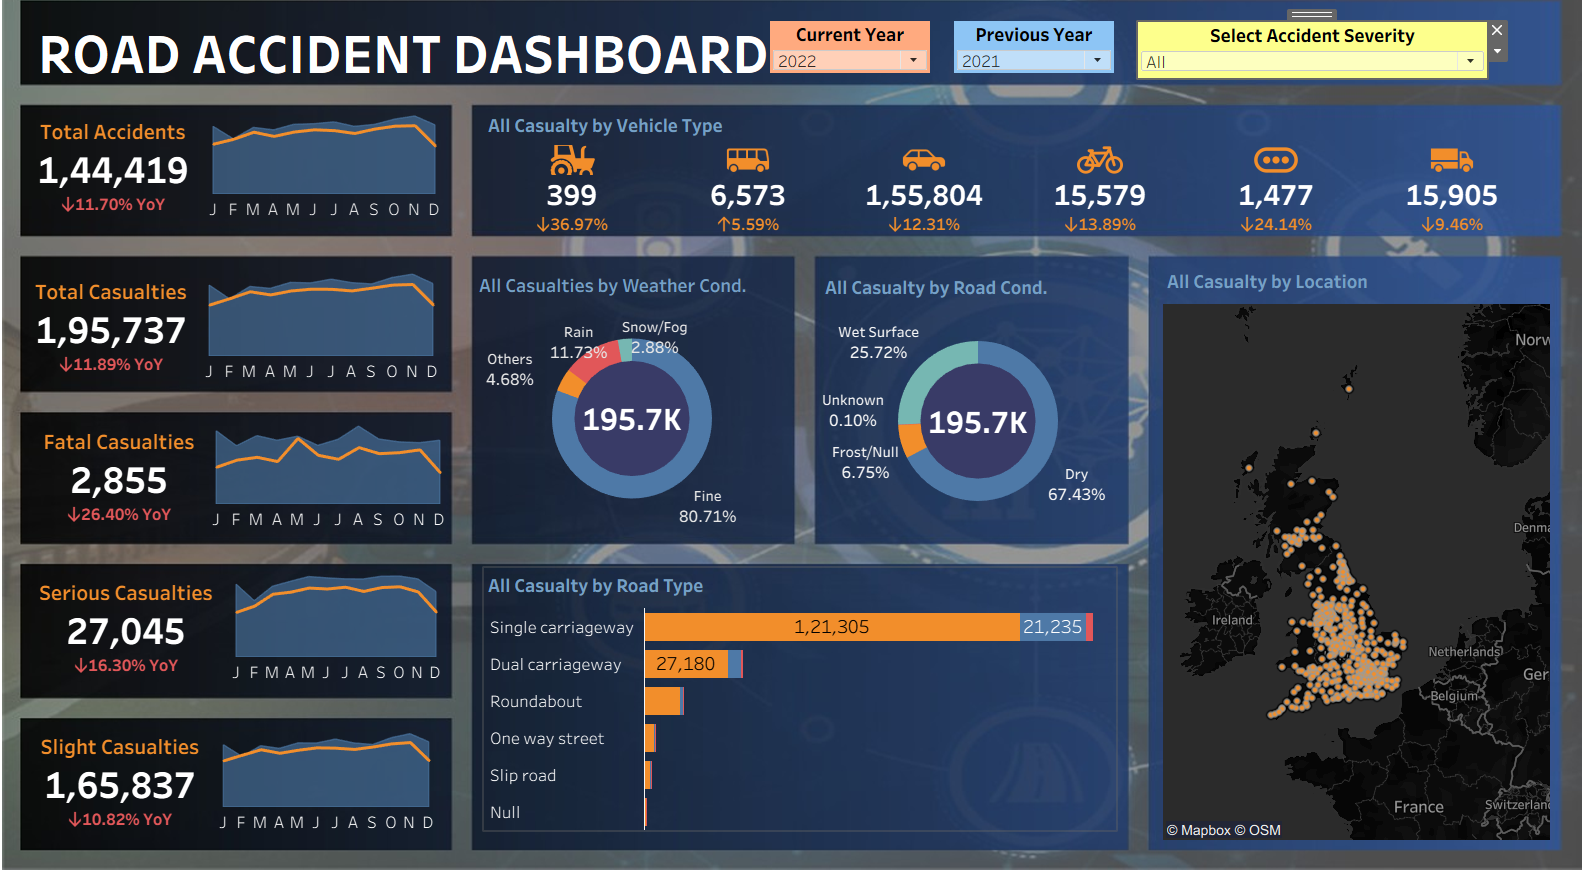

This screenshot's page, from the dashboard's own definition file:
{"tool":"tableau","page":{"name":"Dashboard 1","canvas":[1000,1000],"units":"permille","ordinal":0},"visuals":[{"type":"image","param":"Image/Background.jpg","box":[5,8.6,990,982.7]},{"type":"text","box":[27.2,57.2,494.3,77.8]},{"type":"parameter","param":"[Parameters].[Parameter 0280965394235394]","box":[486.2,62.6,99.8,56.2]},{"type":"parameter","param":"[Parameters].[Current Year (copy)_0280965395177475]","box":[601,62.6,99.8,56.2]},{"type":"parameter","param":"[Parameters].[Parameter 0567938290401281]","box":[715.8,63.7,217.6,60.5]},{"type":"worksheet","title":"Total Accidents","mark":"Automatic","box":[23.1,156.6,107.2,126.4]},{"type":"worksheet","title":"Accident Sparkline","mark":"Automatic","rows":["CY Accidents (copy)_0280965400219655","Calculation_0280965398462470"],"cols":["Accident Date"],"box":[130.3,156.6,155.8,126.4]},{"type":"text","box":[305.7,157.7,663.3,34.6]},{"type":"worksheet","title":"Vehicle Type Images","mark":"Shape","box":[305.7,192.2,663.3,36.7]},{"type":"worksheet","title":"Casualty by Vehicle Type KPI","mark":"Automatic","box":[305.7,229,663.3,68]},{"type":"worksheet","title":"Casualties by Location","mark":"Automatic","rows":["Latitude"],"cols":["Longitude"],"box":[731.5,325.1,241.1,622]},{"type":"worksheet","title":"Total Casualties","mark":"Automatic","box":[22.4,327.2,105.4,130.7]},{"type":"worksheet","title":"Total Casualty Sparkline","mark":"Automatic","rows":["CY Casualties (copy)_0280965444804618","Calculation_0280965443506185"],"cols":["Accident Date"],"box":[127.8,327.2,157.1,130.7]},{"type":"worksheet","title":"Weather Conditions","mark":"Pie","rows":["Calculation_1068216115617793","Calculation_1068216115617793"],"box":[302.5,329.4,195.6,281.9]},{"type":"worksheet","title":"Road Conditions","mark":"Pie","rows":["Calculation_1068216115617793","Calculation_1068216115617793"],"box":[518.4,331.5,195.6,282.9]},{"type":"worksheet","title":"Fatal Casualties","mark":"Automatic","box":[28.1,491.4,104.1,126.4]},{"type":"worksheet","title":"Fatal Casualty Sparkline","mark":"Automatic","rows":["CY Fatal Casualties (copy)_0280965472915469","Calculation_0280965471055884"],"cols":["Accident Date"],"box":[132.2,491.4,157.1,126.4]},{"type":"worksheet","title":"Serious Casualties","mark":"Automatic","box":[23.7,653.4,121.6,129.6]},{"type":"worksheet","title":"Serious Casualty Sparkline ","mark":"Automatic","rows":["PY Fatal Casualties (copy)_0280965474508816","CY Fatal Casualties (copy)_0280965474258959"],"cols":["Accident Date"],"box":[145.3,653.4,140.9,129.6]},{"type":"worksheet","title":"Casualties by Road Type","mark":"Automatic","rows":["Road_Type"],"cols":["Calculation_0280965443506185"],"box":[308.2,653.4,393.7,282.9]},{"type":"worksheet","title":"Slight Casualties","mark":"Automatic","box":[24.3,824,112.9,119.9]},{"type":"worksheet","title":"Slight Casualty Sparkline","mark":"Automatic","rows":["PY Serious Casualties  (copy)_0280965475819539","CY Serious Casualties  (copy)_0280965475590162"],"cols":["Accident Date"],"box":[137.2,824,144.6,119.9]}]}

Visuals, with their boxes on the dashboard's canvas, which has no fixed pixel size, in thousandths of its width and height (x1, y1, x2, y2). These are canvas units, not pixel positions in the 1582x873 screenshot, which may show the page scaled, cropped or inside an application window:
image: x1=5, y1=9, x2=995, y2=991
text: x1=27, y1=57, x2=522, y2=135
parameter: x1=486, y1=63, x2=586, y2=119
parameter: x1=601, y1=63, x2=701, y2=119
parameter: x1=716, y1=64, x2=933, y2=124
"Total Accidents" worksheet: x1=23, y1=157, x2=130, y2=283
"Accident Sparkline" worksheet: x1=130, y1=157, x2=286, y2=283
text: x1=306, y1=158, x2=969, y2=192
"Vehicle Type Images" worksheet (Shape marks): x1=306, y1=192, x2=969, y2=229
"Casualty by Vehicle Type KPI" worksheet: x1=306, y1=229, x2=969, y2=297
"Casualties by Location" worksheet: x1=732, y1=325, x2=973, y2=947
"Total Casualties" worksheet: x1=22, y1=327, x2=128, y2=458
"Total Casualty Sparkline" worksheet: x1=128, y1=327, x2=285, y2=458
"Weather Conditions" worksheet (Pie marks): x1=302, y1=329, x2=498, y2=611
"Road Conditions" worksheet (Pie marks): x1=518, y1=332, x2=714, y2=614
"Fatal Casualties" worksheet: x1=28, y1=491, x2=132, y2=618
"Fatal Casualty Sparkline" worksheet: x1=132, y1=491, x2=289, y2=618
"Serious Casualties" worksheet: x1=24, y1=653, x2=145, y2=783
"Serious Casualty Sparkline " worksheet: x1=145, y1=653, x2=286, y2=783
"Casualties by Road Type" worksheet: x1=308, y1=653, x2=702, y2=936
"Slight Casualties" worksheet: x1=24, y1=824, x2=137, y2=944
"Slight Casualty Sparkline" worksheet: x1=137, y1=824, x2=282, y2=944
